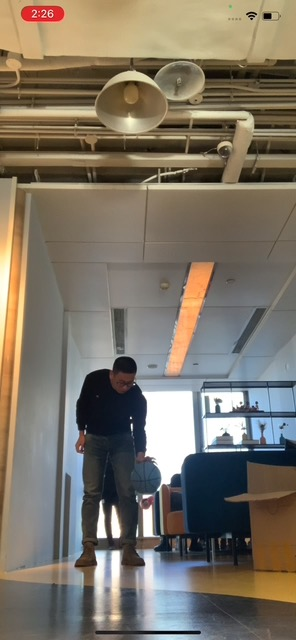ball: (130, 459, 161, 494)
